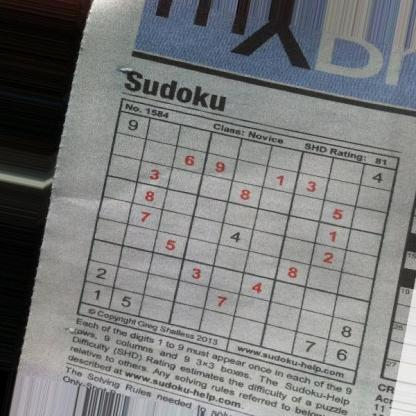sudoku: (78, 107, 399, 373)
